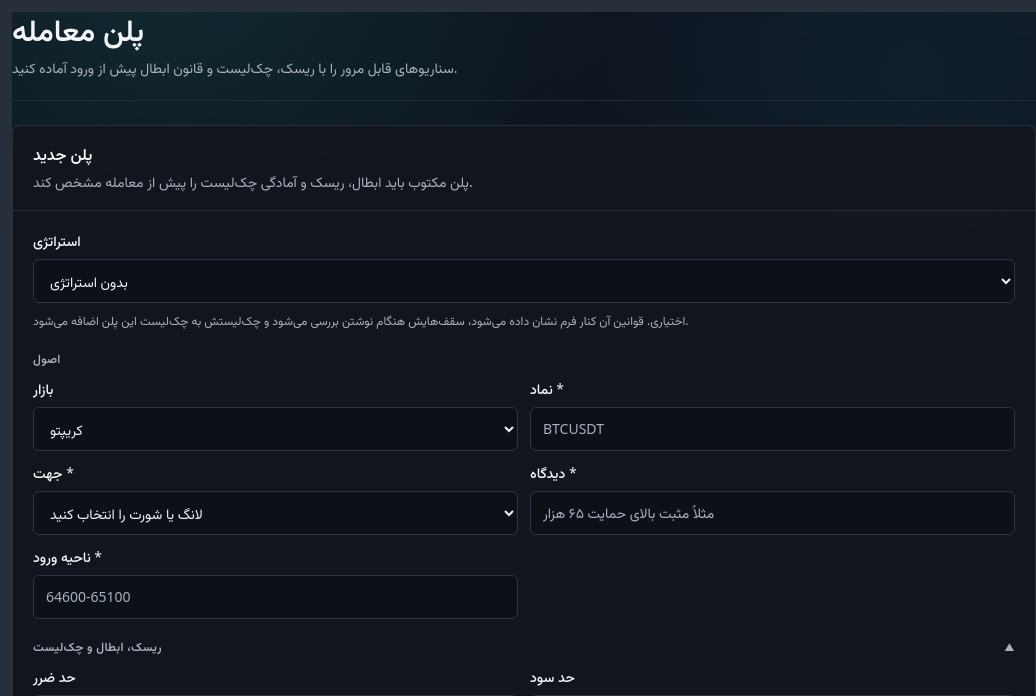
Scenario: choosing a strategy shows its rules next to the form, read-only › is in Persian, with Persian digits
Select "Range fade" in the 1st dropdown at (524, 281), box [33,259,1015,303]
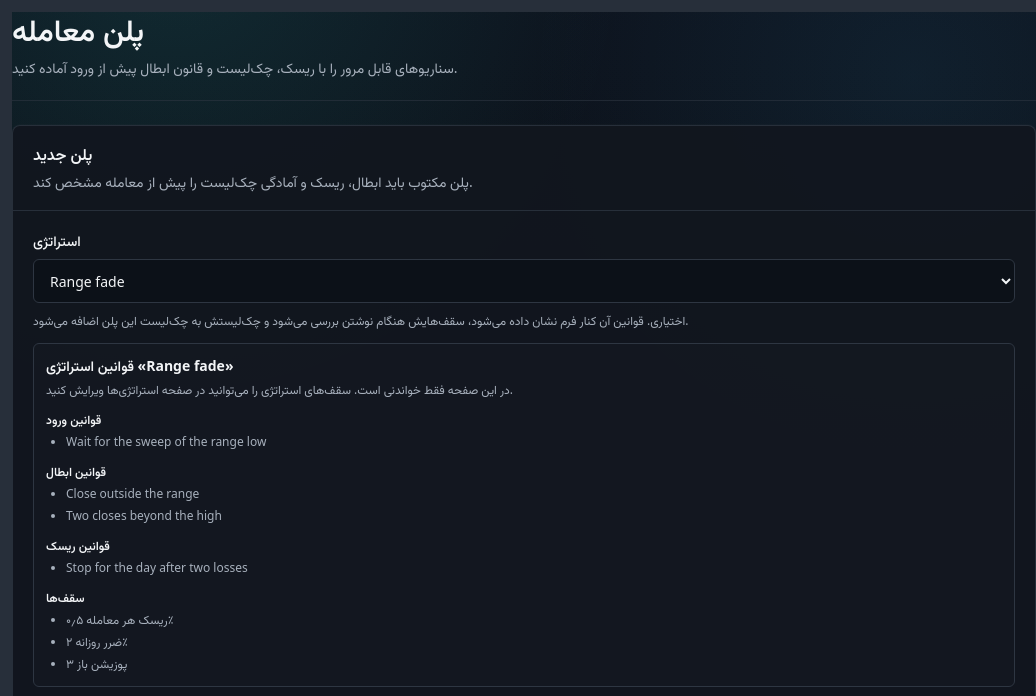
Check: the element "Range fade" shows "قوانین ورود", box [46,411,101,428]
Check: the element "Range fade" shows "در این صفحه فقط خواندنی است. سقف‌های استراتژی را می‌توانید در صفحه استراتژی‌ها ویرایش کنید.", box [46,381,513,398]
Check: the element "Range fade" shows "ریسک هر معامله ۰٫۵٪", box [66,611,174,628]
